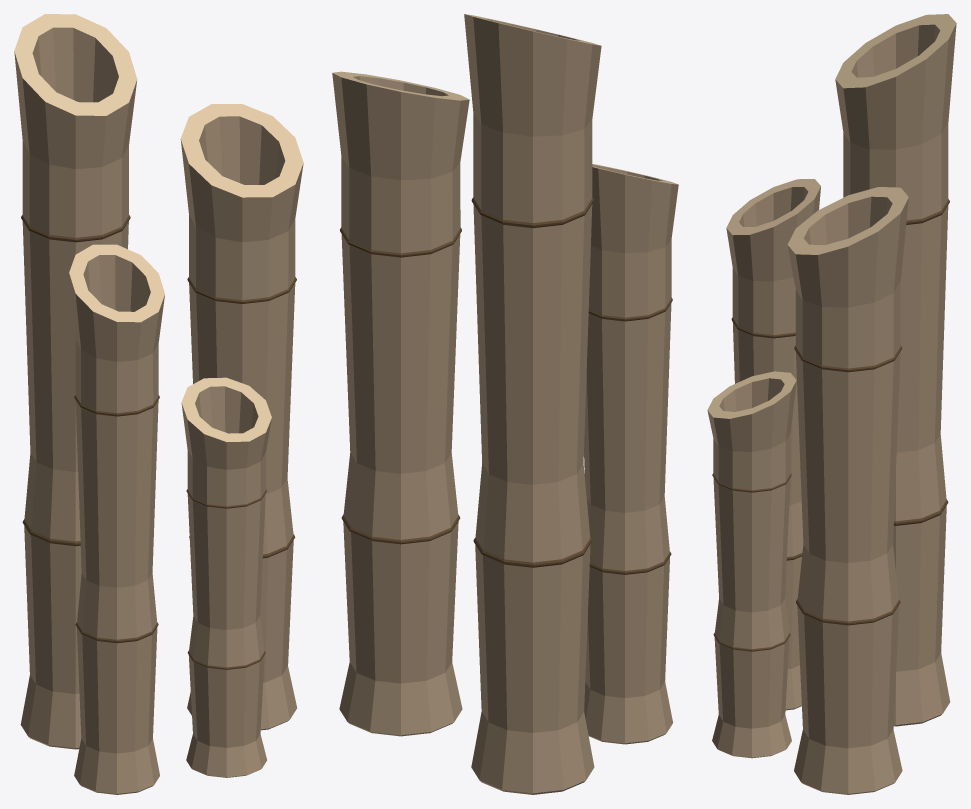
The model's file is BambooStack_1.fbx.
The picture shows the model from 3 angles, left to right: view 1: azimuth 30°, elevation 25°; view 2: azimuth 150°, elevation 25°; view 3: azimuth 270°, elevation 25°; orthographic projection. The views are drawn at different scales.
Parts seen in each view (by area): view 1: BambooStack_1; view 2: BambooStack_1; view 3: BambooStack_1.
Boxes of the visible parts, box(x1,y1,x2,y2) form: BambooStack_1: box(14, 14, 303, 794); BambooStack_1: box(332, 14, 678, 794); BambooStack_1: box(707, 14, 956, 794).
Bounding box in the file's own units: 30.52 × 78.19 × 25.91.
